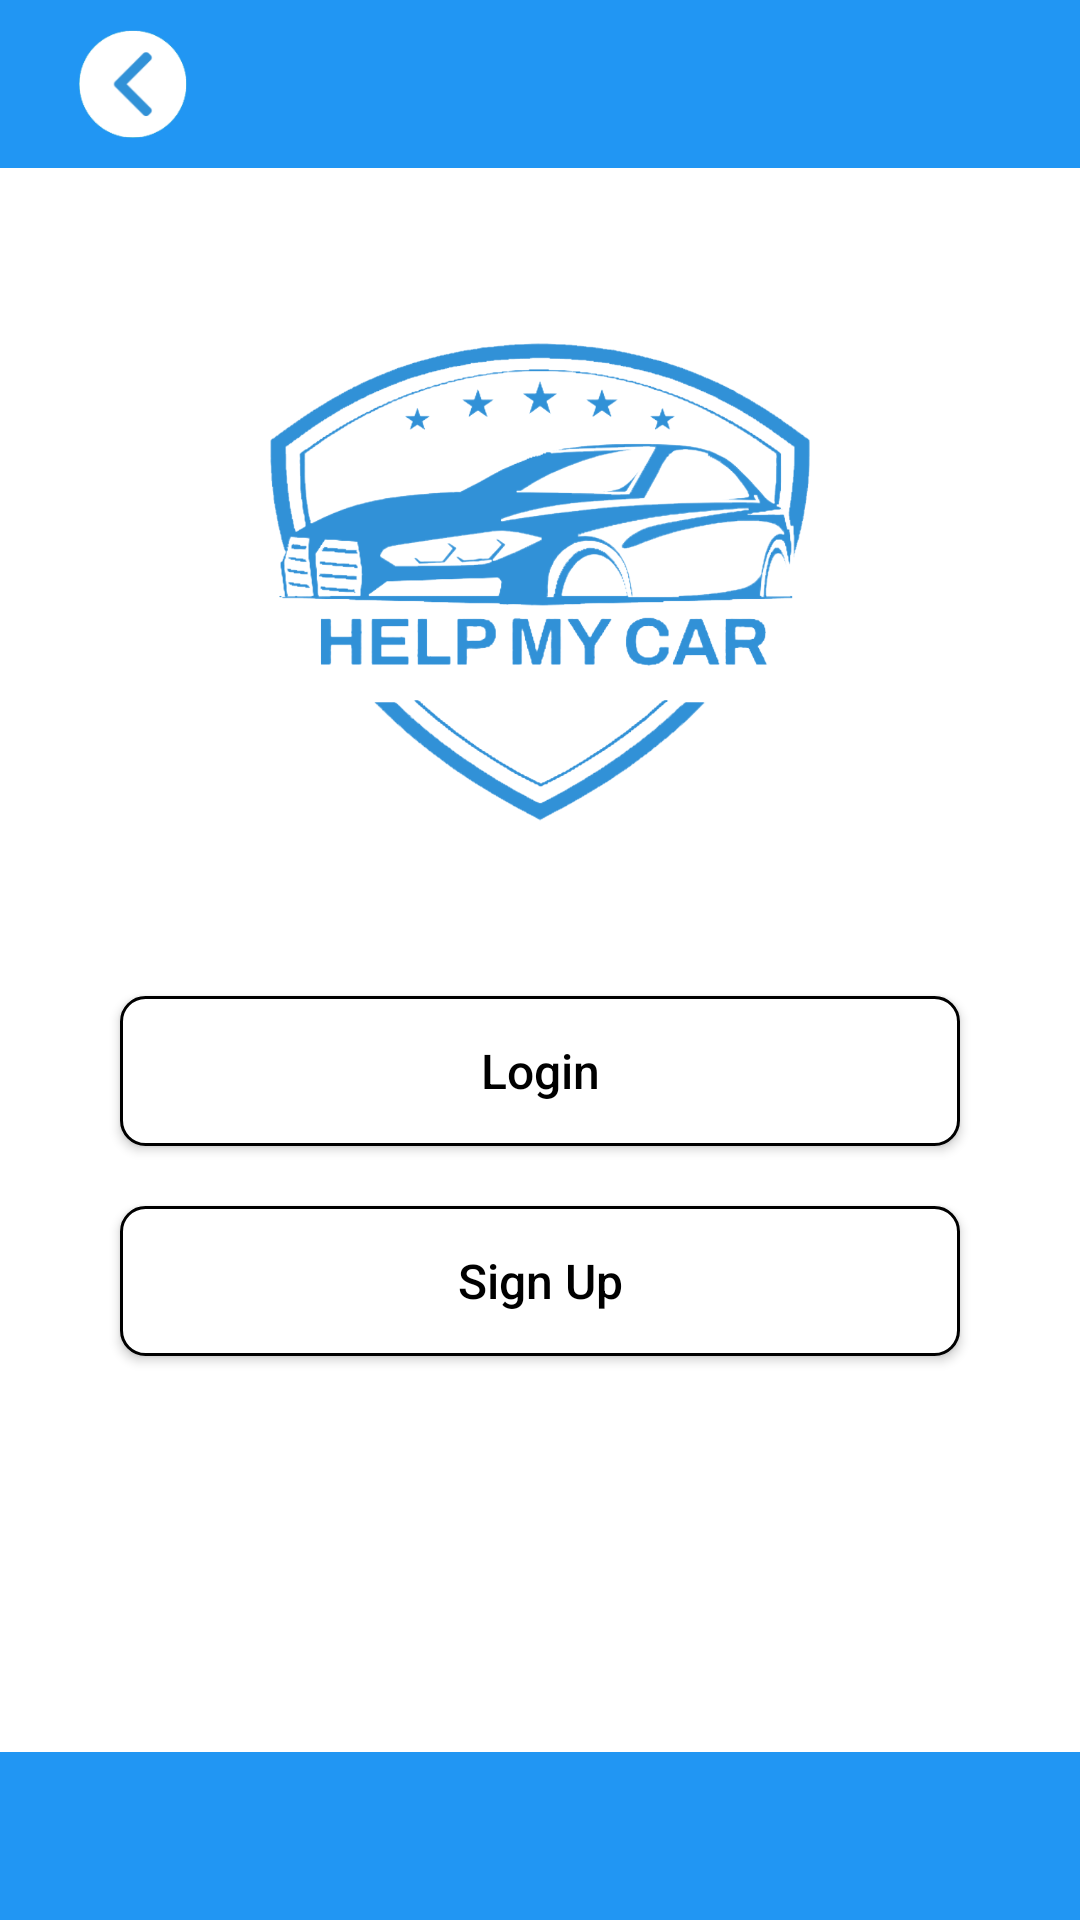

Screen size 1080px×1920px. Icon name, then its center in pixels as point (x, y):
Navigate back: point (133, 84)
